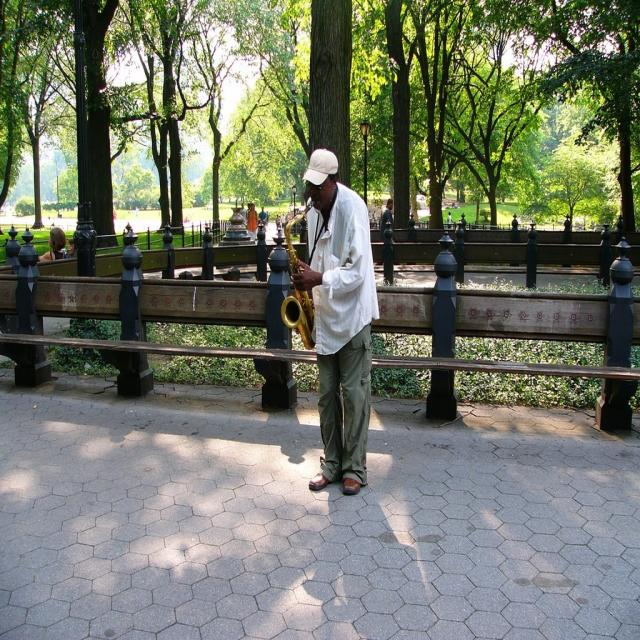saxophone: (278, 197, 324, 350)
